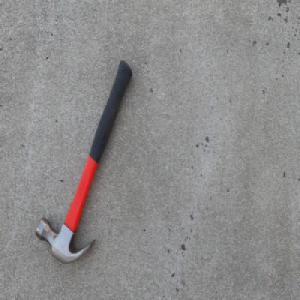Hammer: (34, 58, 132, 265)
